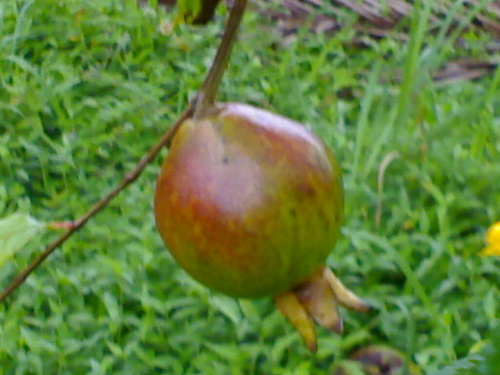pomogranate: (153, 103, 347, 298)
